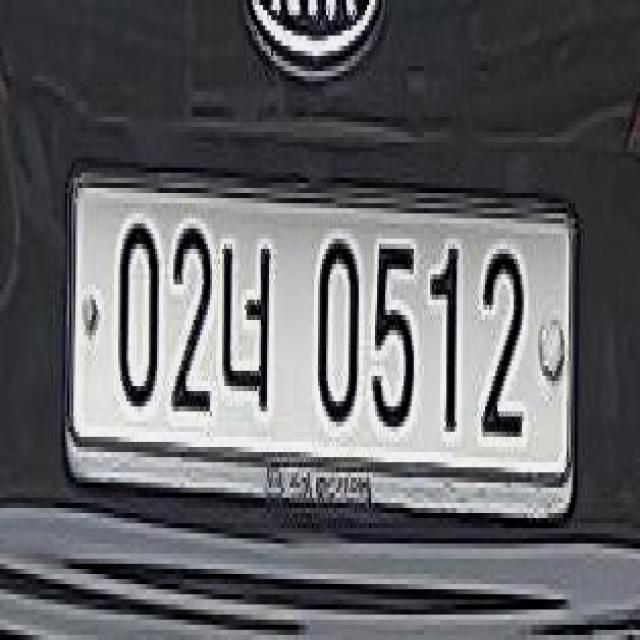illegal_plate: (70, 163, 582, 549)
